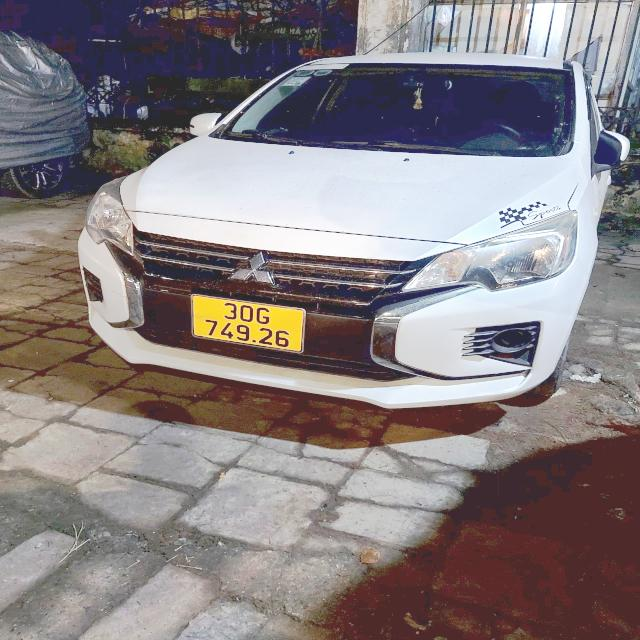license_plate: (187, 291, 310, 358)
